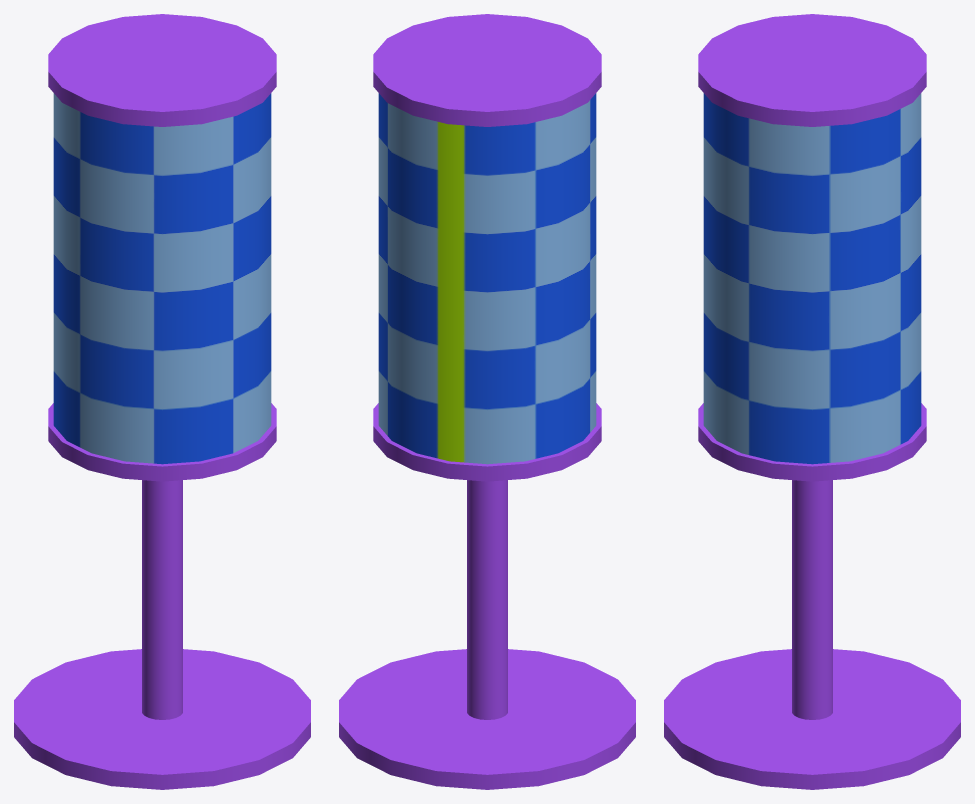
File: LightTable01_4.FBX
The picture shows the model from 3 angles, left to right: view 1: azimuth 30°, elevation 25°; view 2: azimuth 150°, elevation 25°; view 3: azimuth 270°, elevation 25°; orthographic projection.
Visible parts, largest first — view 1: LightTable01_4; view 2: LightTable01_4; view 3: LightTable01_4.
Boxes of the visible parts, bbox=[...] form: LightTable01_4: bbox=[14, 14, 310, 789]; LightTable01_4: bbox=[339, 14, 635, 789]; LightTable01_4: bbox=[664, 14, 960, 789].
Bounding box in the file's own units: 16.22 × 39.39 × 15.97.
